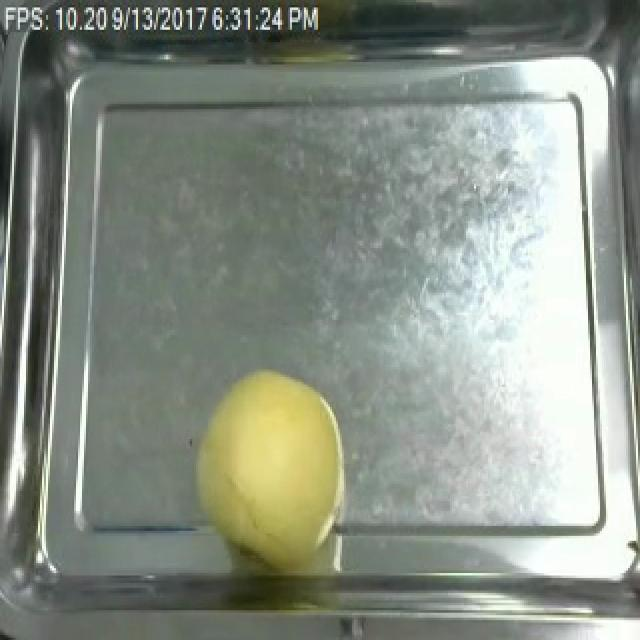Fruit: (182, 360, 356, 568)
